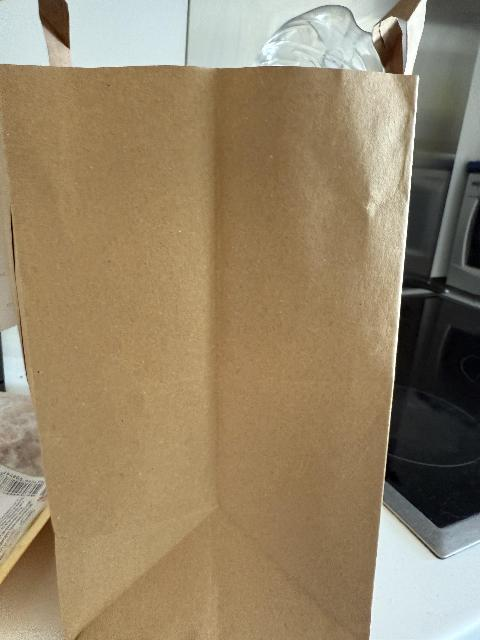Kagit: (0, 62, 440, 640)
